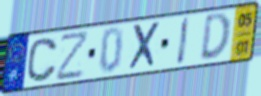0: (99, 25, 125, 76)
C: (25, 37, 59, 84)
D: (198, 10, 232, 62)
I: (175, 16, 191, 67)
X: (127, 20, 162, 72)
Z: (55, 28, 91, 83)
